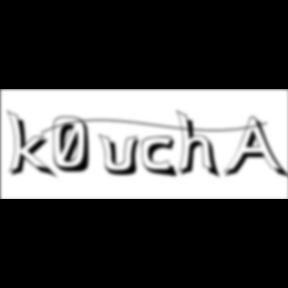0: (53, 115, 98, 174)
c: (142, 136, 182, 180)
h: (176, 108, 224, 182)
k: (6, 108, 60, 181)
u: (98, 132, 146, 178)
